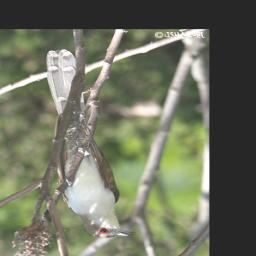Cuckoo: (43, 50, 136, 242)
